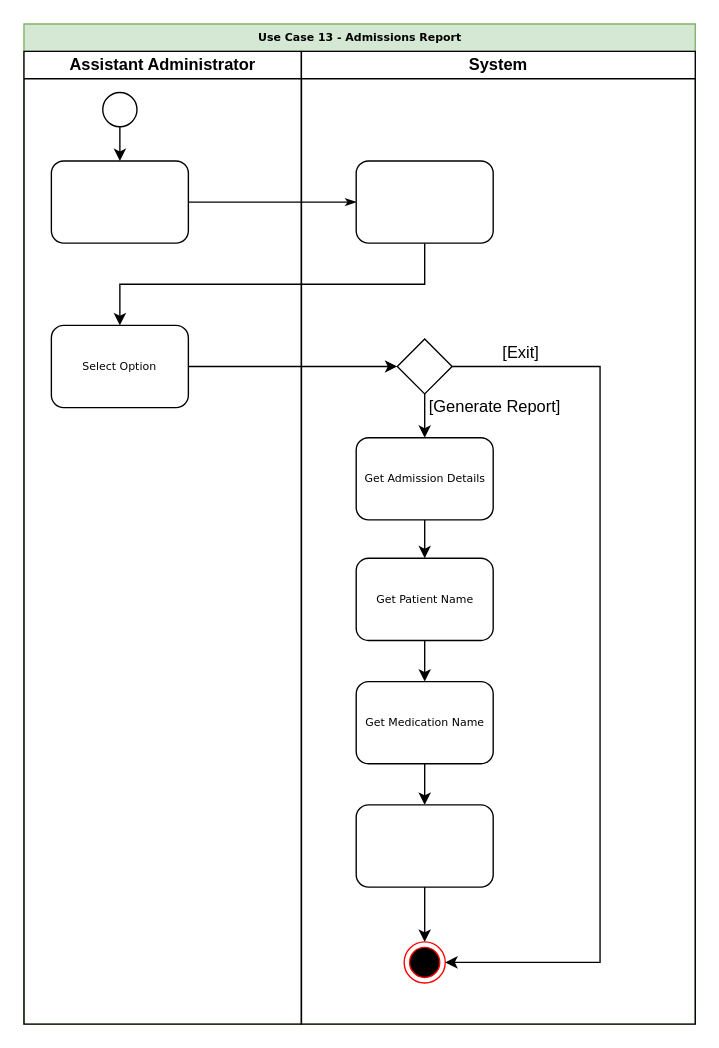
The diagram is 719 pixels wide and 1048 high, and some of its shapes have lost their labels. The shapes that lost their labels are listed below. From the top down, each one's centre as x and y in pixels, then its label:
point 119,201: Select "Admissions Report" Form
point 424,201: Display "Admissions Report" Form
point 424,845: Display Admissions Report
